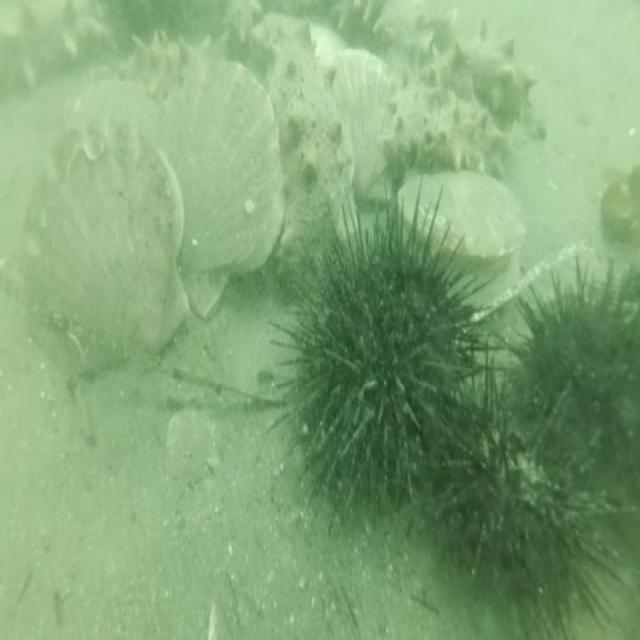echinus: (268, 182, 505, 534), (429, 341, 623, 640), (493, 246, 640, 522)
holothurian: (266, 16, 357, 300), (381, 59, 503, 172), (417, 19, 539, 128), (0, 0, 117, 106), (116, 27, 220, 98), (219, 0, 261, 46)
scallop: (18, 106, 191, 384), (157, 54, 286, 319), (390, 166, 528, 306), (330, 49, 397, 202), (372, 0, 458, 52)
